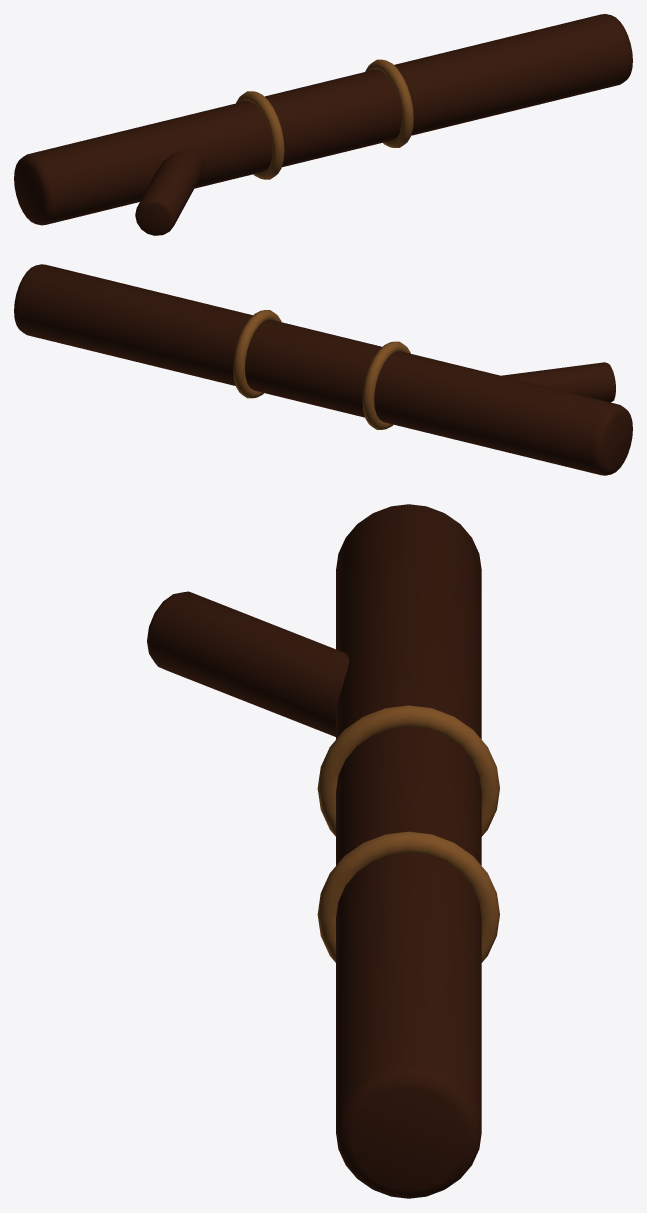
File: SM_LT_Parrot_Perch.obj
3 renders of one model, top to bottom at view 1: azimuth 30°, elevation 25°; view 2: azimuth 150°, elevation 25°; view 3: azimuth 270°, elevation 25°, orthographic. The views are drawn at different scales.
Parts seen in each view (by area): view 1: SM_LT_Parrot_Perch; view 2: SM_LT_Parrot_Perch; view 3: SM_LT_Parrot_Perch.
Part boxes in pixels (<box>): SM_LT_Parrot_Perch: <box>14,14,632,235</box>; SM_LT_Parrot_Perch: <box>14,264,632,475</box>; SM_LT_Parrot_Perch: <box>147,504,499,1198</box>.
Bounding box in the file's own units: 82 × 11 × 21.29.
